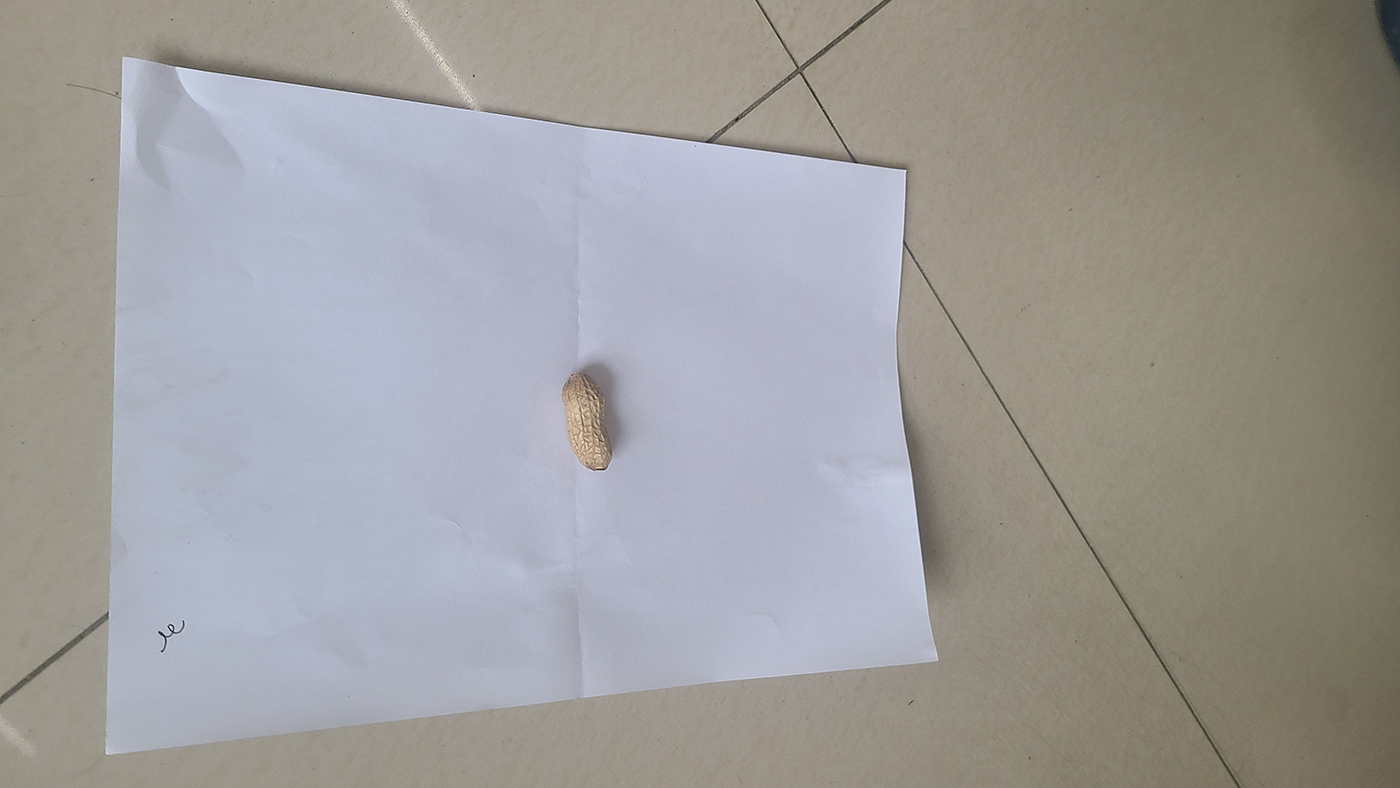h: (560, 366, 616, 473)
